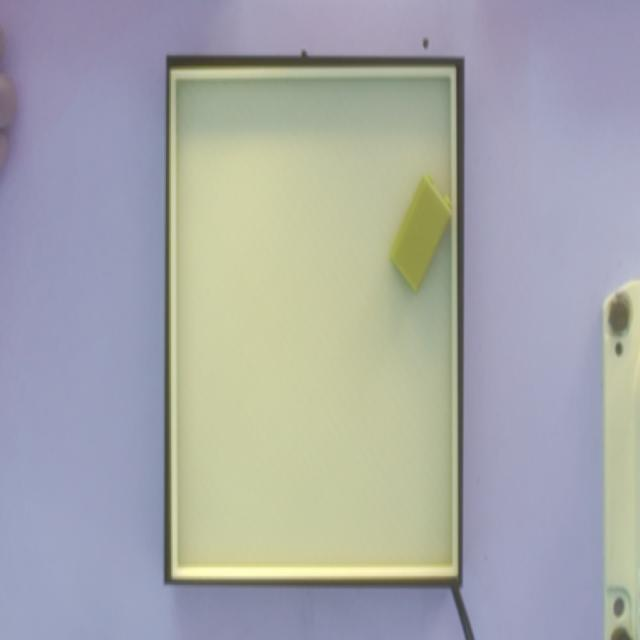bateria: (388, 172, 453, 297)
mesa: (164, 54, 465, 587)
